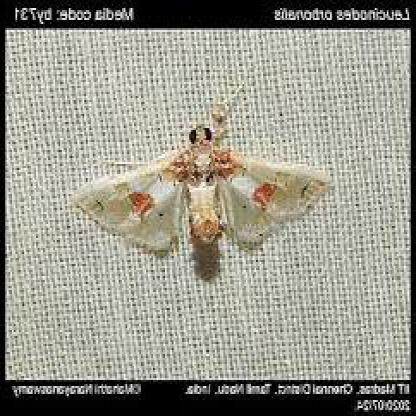leucinodes: (69, 123, 334, 252)
